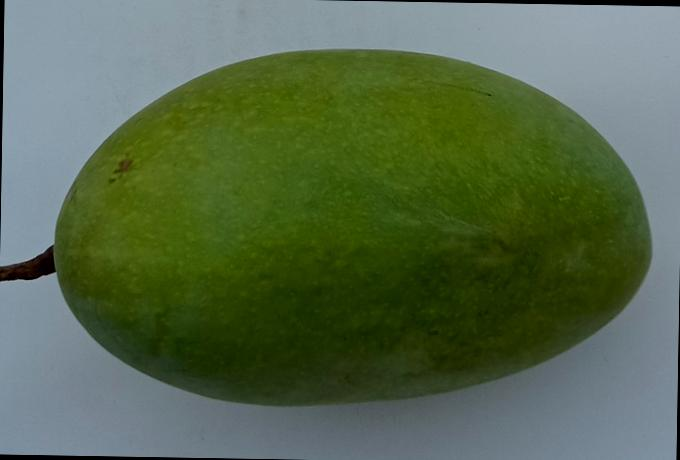Mango Unripe: (0, 26, 680, 433)
